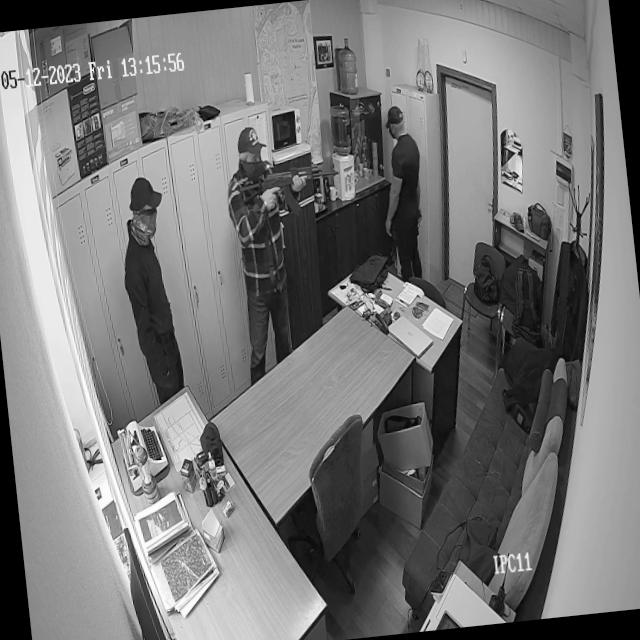gun: (240, 160, 342, 222)
person: (115, 176, 188, 416), (373, 108, 431, 287)
person with a gun: (220, 121, 359, 388)
